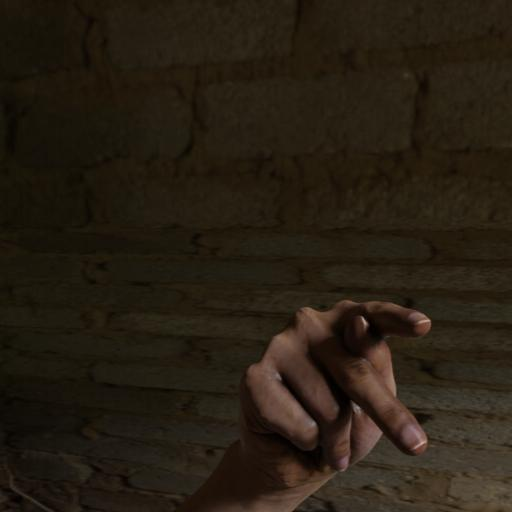P: (232, 281, 460, 512)
